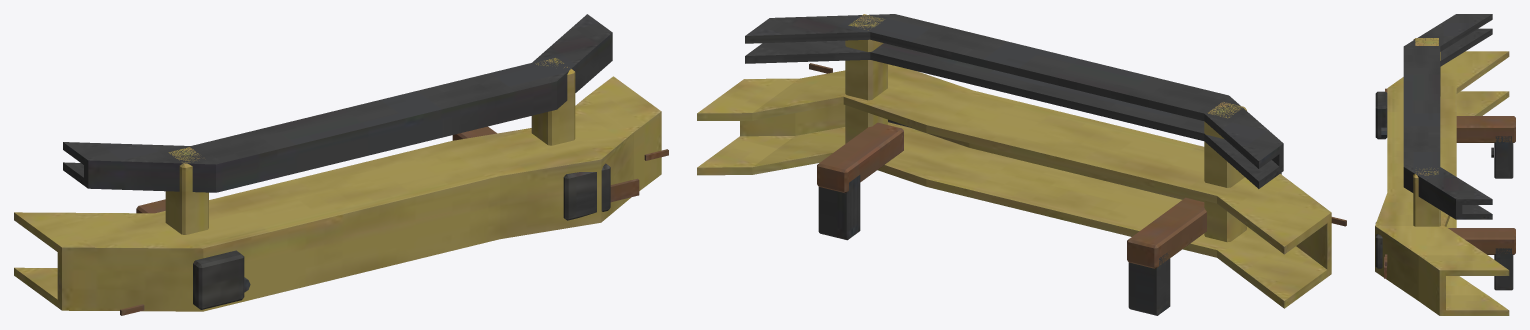
Rendered from JV20_bumper_pieces_v3.glb.
The picture shows the model from 3 angles, left to right: view 1: azimuth 30°, elevation 25°; view 2: azimuth 150°, elevation 25°; view 3: azimuth 270°, elevation 25°; orthographic projection. The views are drawn at different scales.
Visible parts, largest first — view 1: Yellow twin-rail utility bumper; view 2: Yellow twin-rail utility bumper; view 3: Yellow twin-rail utility bumper.
Boxes of the visible parts, bbox=[...] form: Yellow twin-rail utility bumper: bbox=[14, 14, 668, 315]; Yellow twin-rail utility bumper: bbox=[697, 14, 1346, 315]; Yellow twin-rail utility bumper: bbox=[1375, 14, 1515, 315].
Bounding box in the file's own units: 1.5 × 0.4062 × 0.4219.
Materials: 5 (5 with a texture image).
